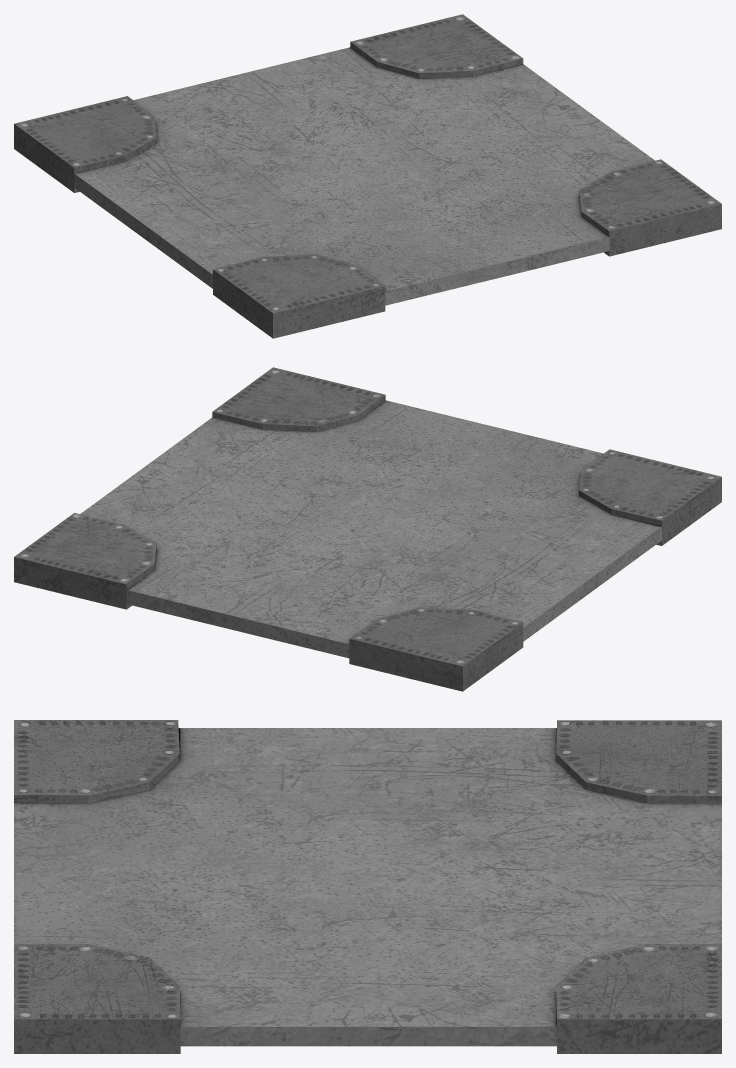
The model's file is Floor_plate.fbx.
The picture shows the model from 3 angles, top to bottom: view 1: azimuth 30°, elevation 25°; view 2: azimuth 150°, elevation 25°; view 3: azimuth 270°, elevation 25°; orthographic projection. The views are drawn at different scales.
Parts seen in each view (by area): view 1: Iron Plate; view 2: Iron Plate; view 3: Iron Plate.
Part boxes in pixels (bbox=[...]): Iron Plate: bbox=[14, 14, 721, 338]; Iron Plate: bbox=[14, 367, 721, 691]; Iron Plate: bbox=[14, 720, 721, 1053].
Size of the model in its own units: 200 by 10.82 by 200.
